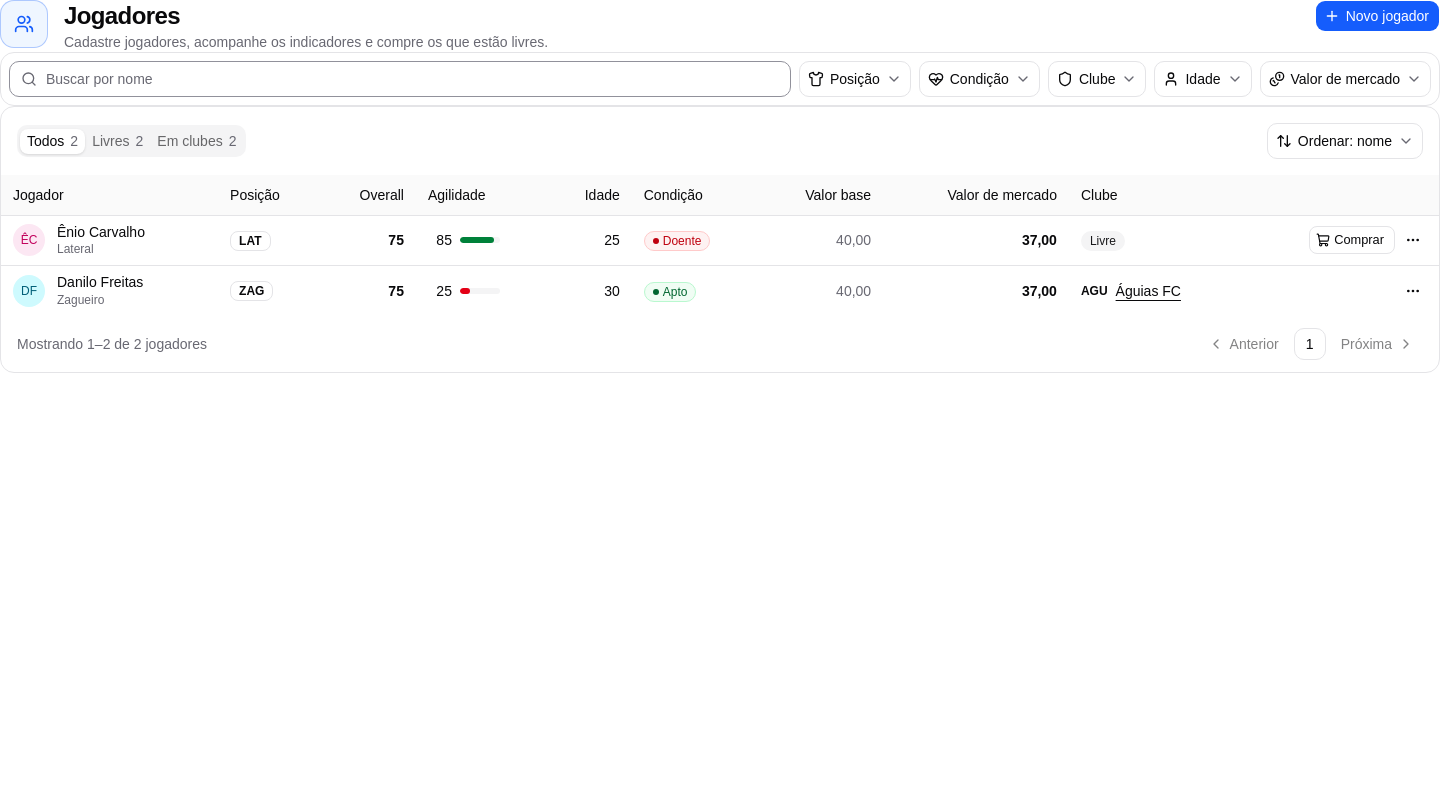
Test: edição de jogador › trava a posição de jogador com clube e não deixa a idade diminuir
The width and height of the screenshot is (1440, 810).
Click the button named "Ações de Danilo Freitas". click: (1413, 291)
box: [1399,277,1427,305]
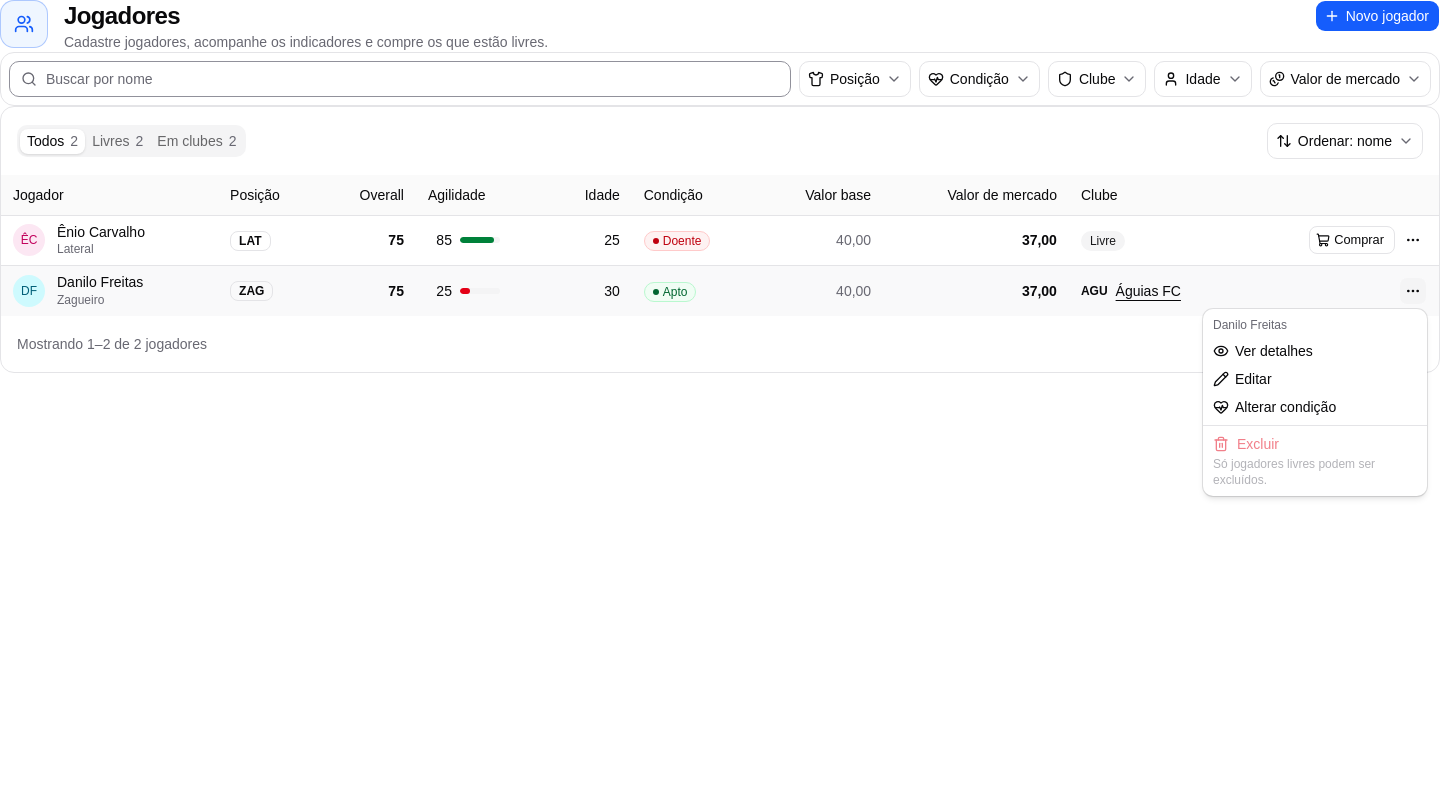
Click the menu item "Editar". click: (1242, 379)
box: [1213,371,1272,387]
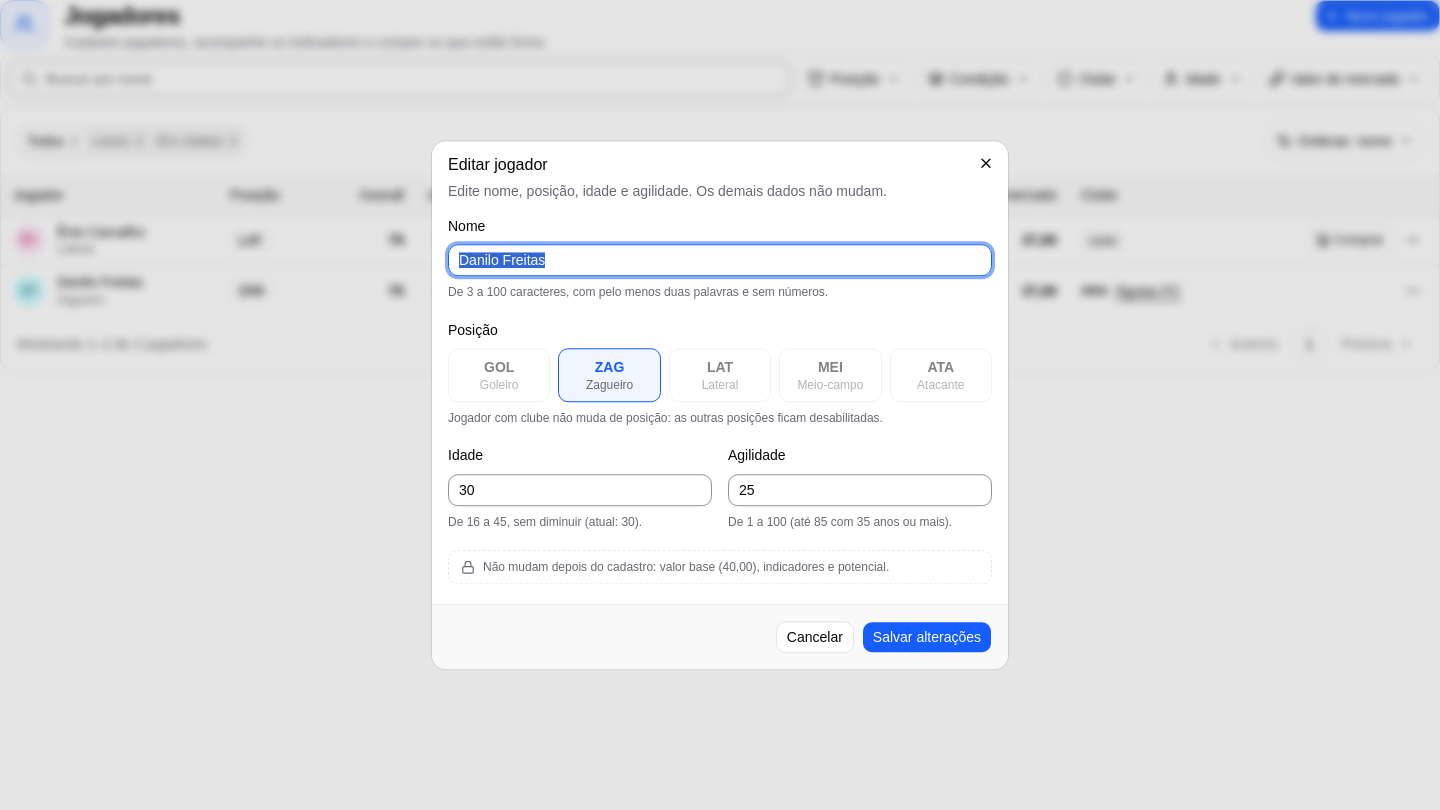
Now the radio button labelled "ZAG Zagueiro" is checked, box [558,348,661,402]
Now the radio button labelled "ATA Atacante" is disabled, box [890,348,992,402]
Replace the text in the field labelled "Idade" with "29". click: (580, 490)
box: [448,474,712,506]
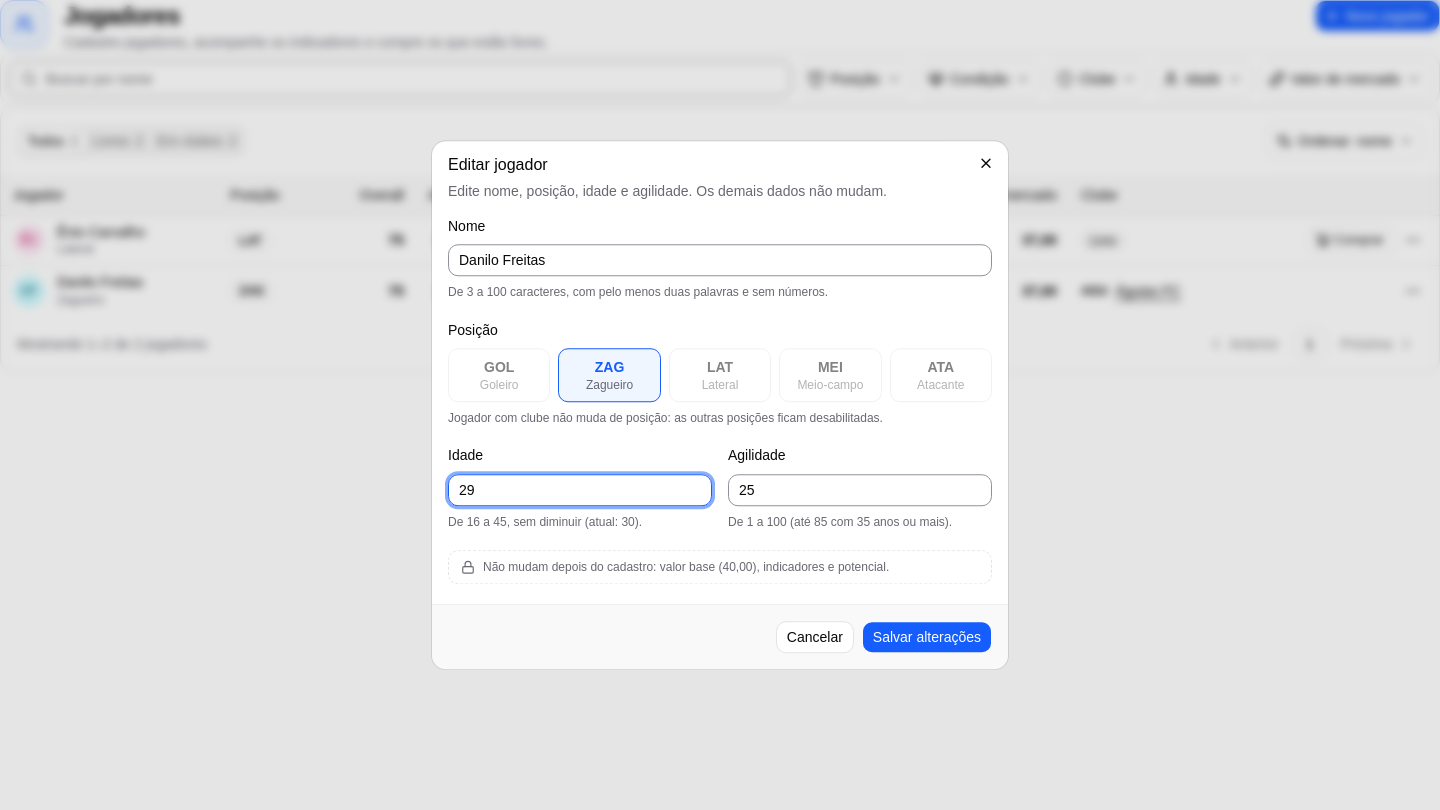
Click the button "Salvar alterações". click: (927, 637)
box: [862,621,992,653]
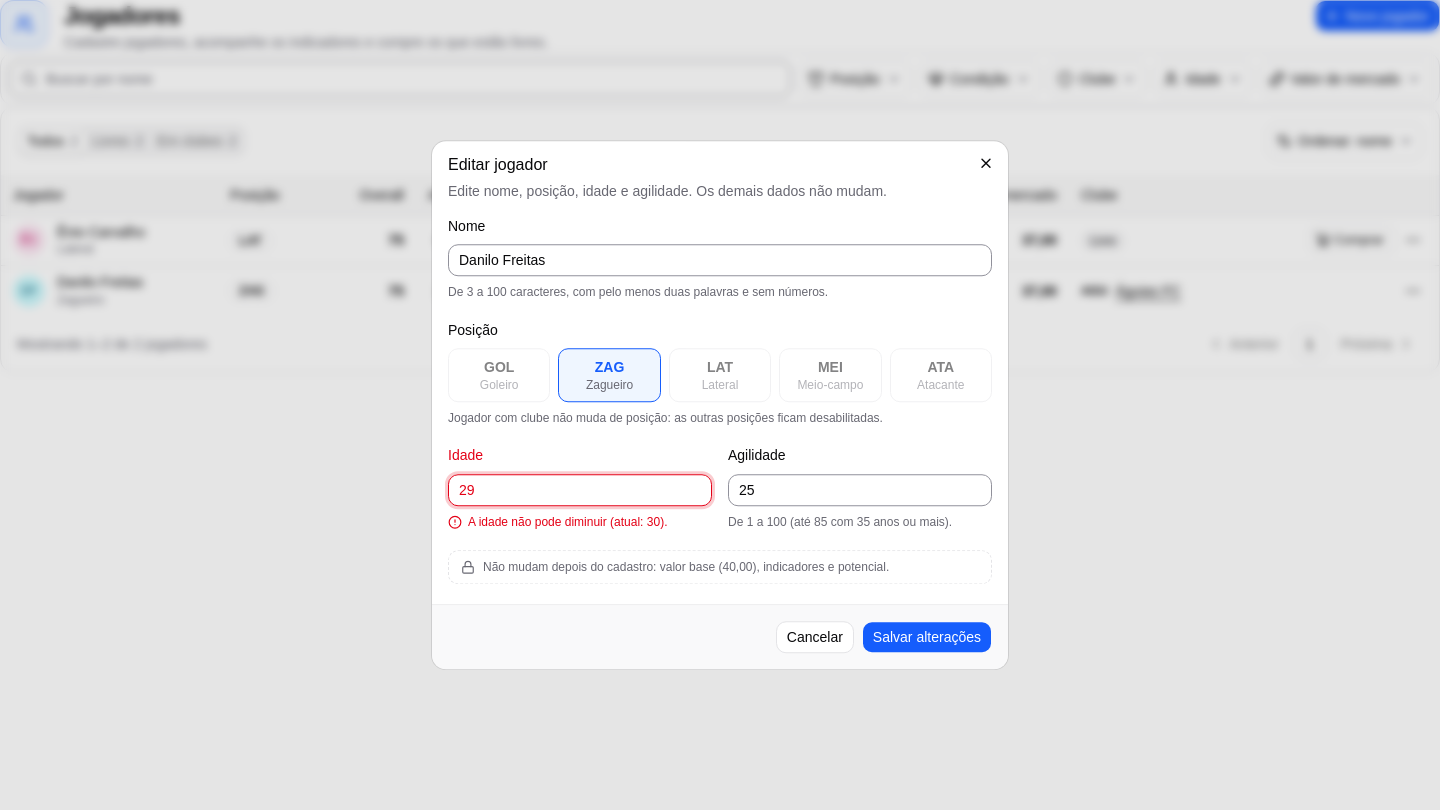
Now the text "A idade não pode diminuir (atual: 30)." is shown, box [448,515,668,529]
